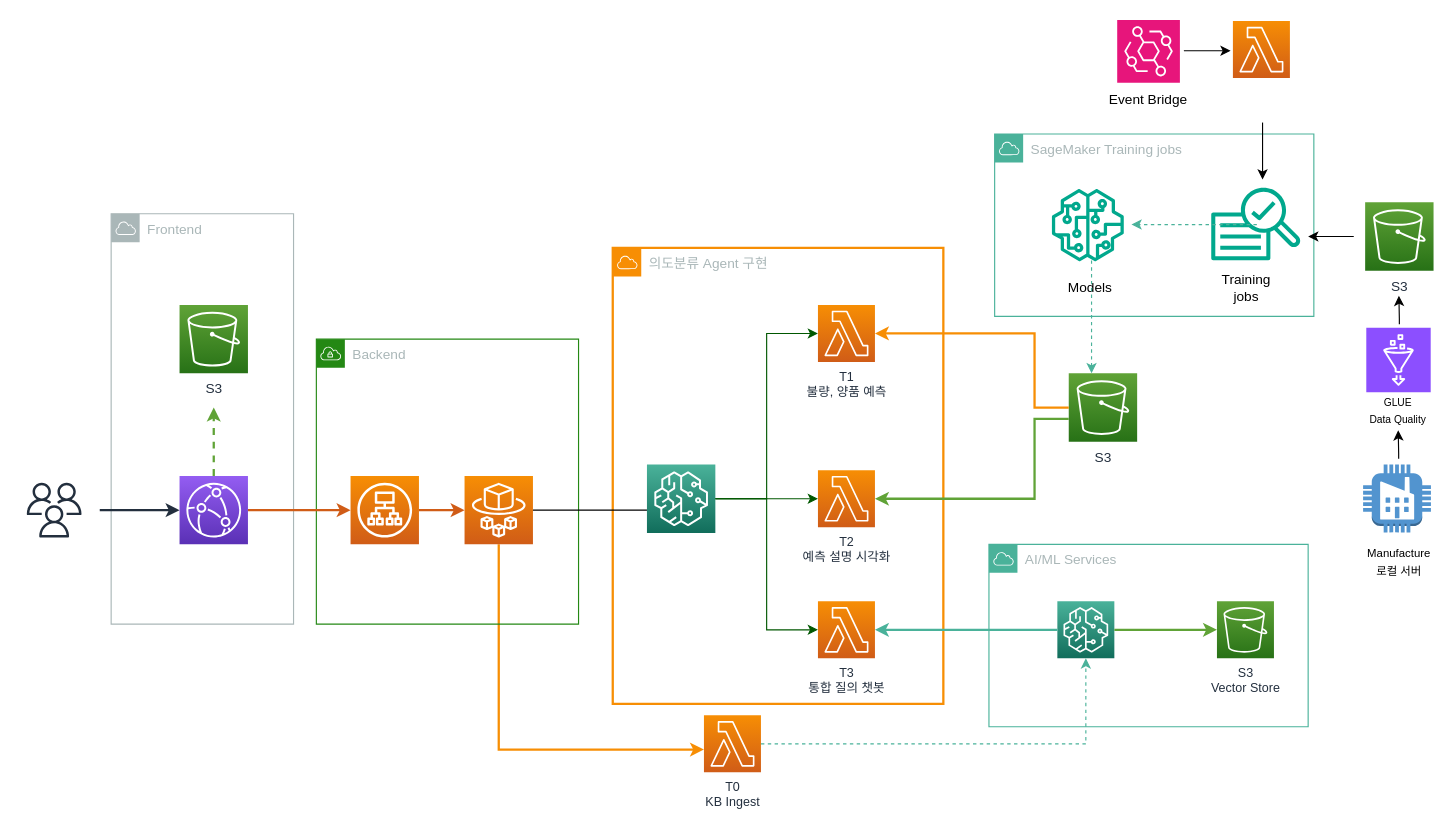
The diagram is 1454 pixels wide and 830 high, and some of its shapes have lost their labels. Here are the shapes that lost their labels. From the top down, the centre of each, then its label:
the point at 1261,49: Lambda (모델 학습 트리거)
the point at 53,509: Users
the point at 213,509: CloudFront CDN
the point at 384,509: ALB
the point at 498,509: ECS Fargate (Agent)
the point at 680,498: 의도분류 Agent Bedrock Claude Sonnet 4.5
the point at 1085,629: Bedrock Knowledge Base
